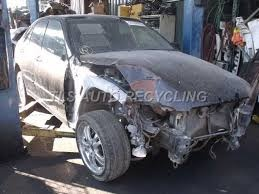Broken-glass: (124, 97, 171, 129)
Dent: (92, 61, 166, 101)
Smashed: (125, 96, 256, 167)
